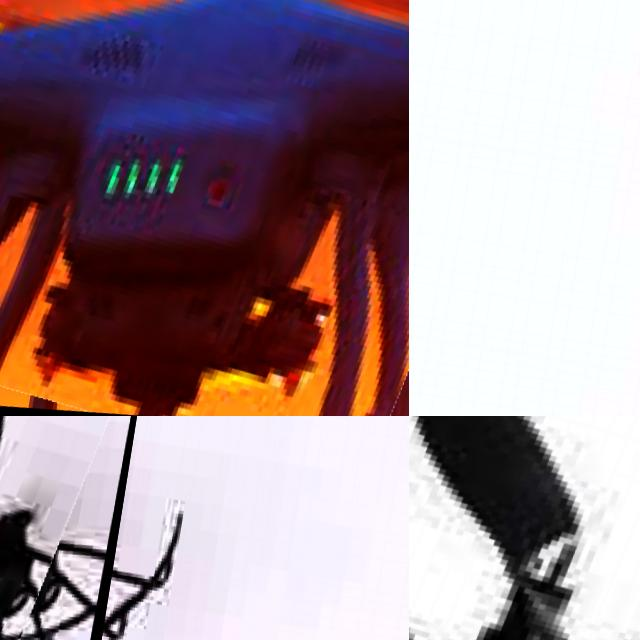drone: (0, 0, 409, 416), (409, 416, 640, 640), (0, 416, 175, 640)
